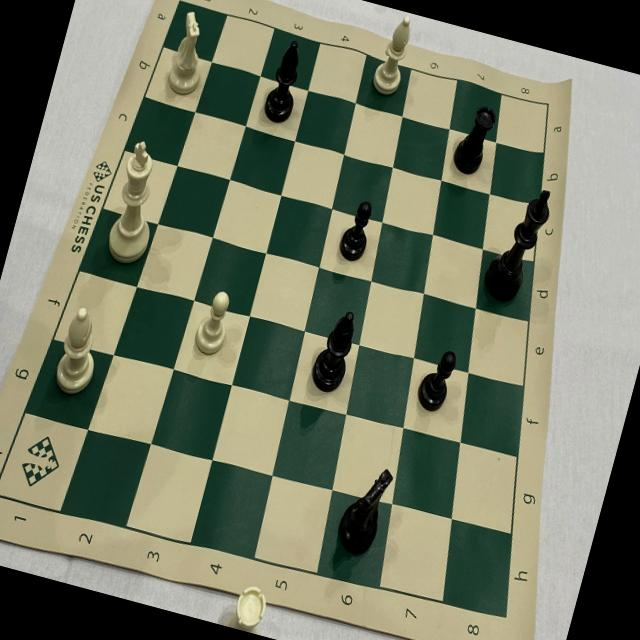black-bishop: (251, 24, 320, 134), (304, 299, 366, 402)
black-king: (472, 170, 562, 313)
black-knight: (326, 454, 406, 570)
black-pawn: (409, 339, 465, 421), (329, 190, 382, 270)
black-rook: (446, 92, 506, 186)
white-bishop: (42, 296, 113, 403), (363, 8, 423, 102)
white-king: (92, 130, 182, 275)
white-knight: (154, 0, 225, 108)
white-pawn: (186, 280, 242, 364)
